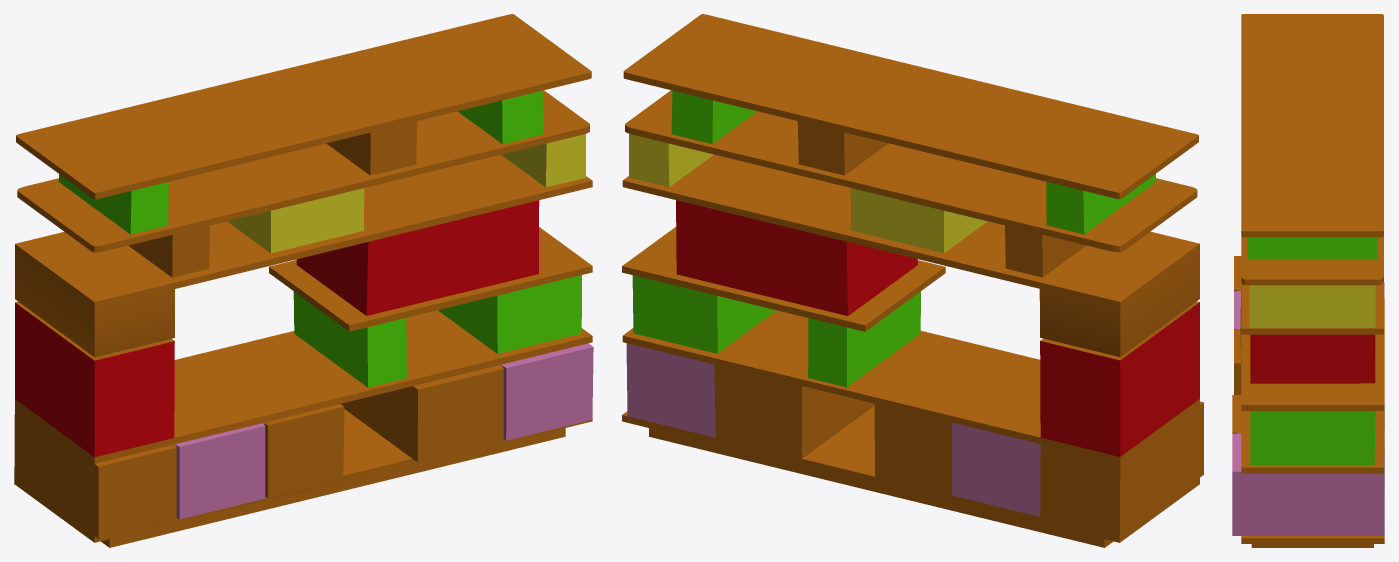
Rendered from SM_BigShelf.fbx.
3 renders of one model, left to right at view 1: azimuth 30°, elevation 25°; view 2: azimuth 150°, elevation 25°; view 3: azimuth 270°, elevation 25°, orthographic. The views are drawn at different scales.
Parts seen in each view (by area): view 1: SHELF.001; view 2: SHELF.001; view 3: SHELF.001.
Part boxes in pixels (x1=…): SHELF.001: x1=14, y1=14, x2=593, y2=547; SHELF.001: x1=622, y1=14, x2=1203, y2=547; SHELF.001: x1=1232, y1=14, x2=1384, y2=547.
Bounding box in the file's own units: 289 × 85.56 × 202.
